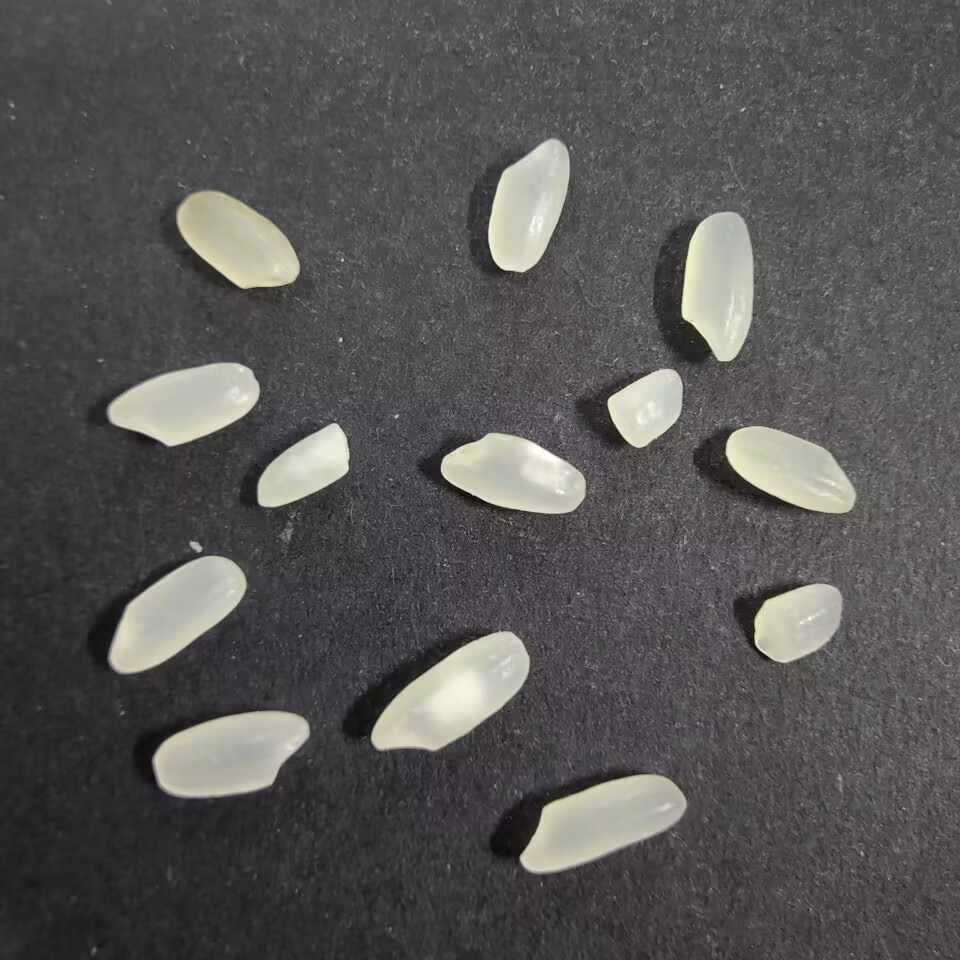broken: (250, 419, 357, 515), (751, 578, 846, 667), (603, 367, 686, 450)
rice: (366, 628, 537, 756), (517, 772, 689, 881), (105, 550, 248, 678), (150, 705, 312, 800), (98, 359, 264, 451), (435, 430, 587, 524), (170, 187, 303, 292), (721, 423, 857, 518), (482, 135, 572, 276), (677, 208, 756, 363)
